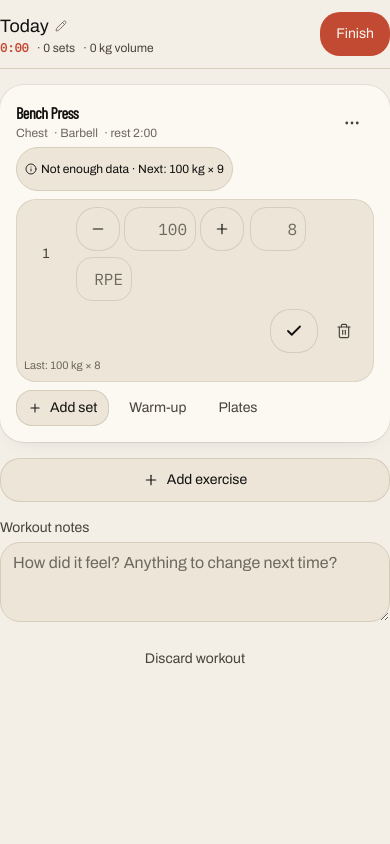
it: ActiveWorkoutPage progression suggestion › shows a tappable suggestion with state text and opens the receipt when there is history
The width and height of the screenshot is (390, 844).
Click the button with aria-label "Progression suggestion for Bench Press". click: {"x": 124, "y": 169}
box: [16,147,233,191]
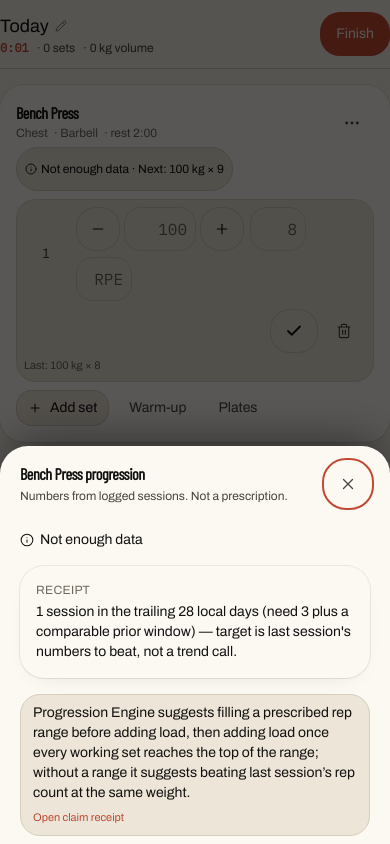
Check: the text "Receipt" is shown, box [36,583,90,597]
